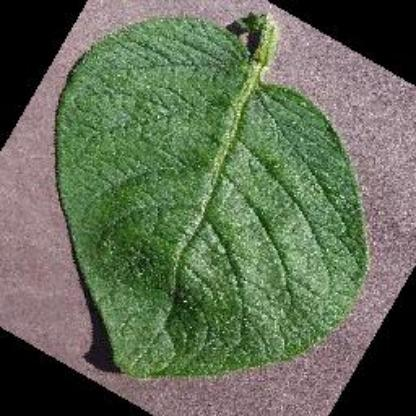Healthy-plant: (50, 13, 402, 380)
